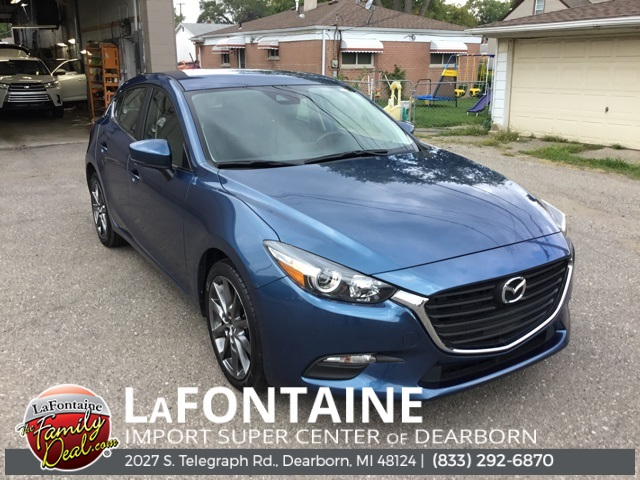Mazda3 Hatchback: (84, 68, 576, 405)
